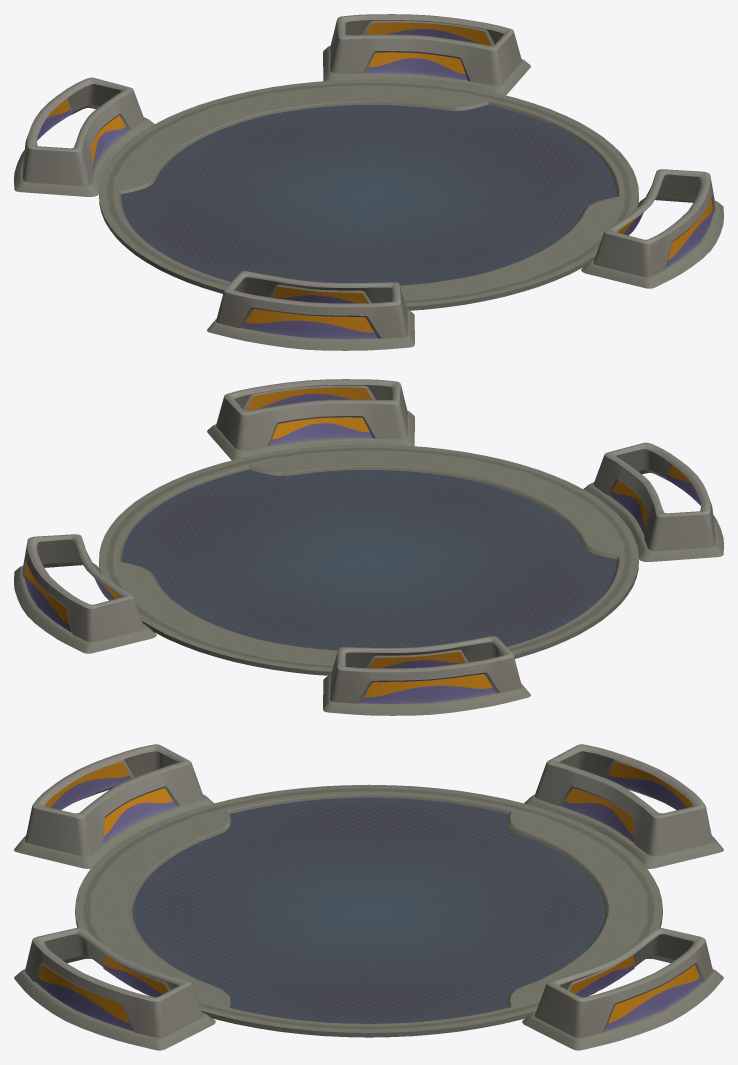
Rendered from pref_sm_beach_WSJ_techcenter_lv3.fbx.
3 views of the same model, one above another, from view 1: azimuth 30°, elevation 25°; view 2: azimuth 150°, elevation 25°; view 3: azimuth 270°, elevation 25° (orthographic). The views are drawn at different scales.
Visible parts, largest first — view 1: pref_sm_beach_WSJ_techcenter_lv3; view 2: pref_sm_beach_WSJ_techcenter_lv3; view 3: pref_sm_beach_WSJ_techcenter_lv3.
Part boxes in pixels (box(x1,y1,x2,y2)): pref_sm_beach_WSJ_techcenter_lv3: box(14, 14, 723, 350); pref_sm_beach_WSJ_techcenter_lv3: box(14, 379, 723, 715); pref_sm_beach_WSJ_techcenter_lv3: box(14, 744, 723, 1050).
Size of the model in its own units: 15.05 by 1.08 by 16.51.
